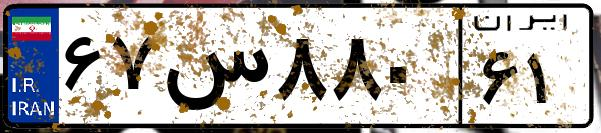0: (385, 28, 445, 110)
1: (525, 38, 570, 115)
6: (57, 26, 110, 100), (475, 38, 525, 113)
7: (110, 28, 158, 98)
8: (270, 28, 330, 110), (330, 28, 385, 110)
س: (158, 20, 270, 120)
